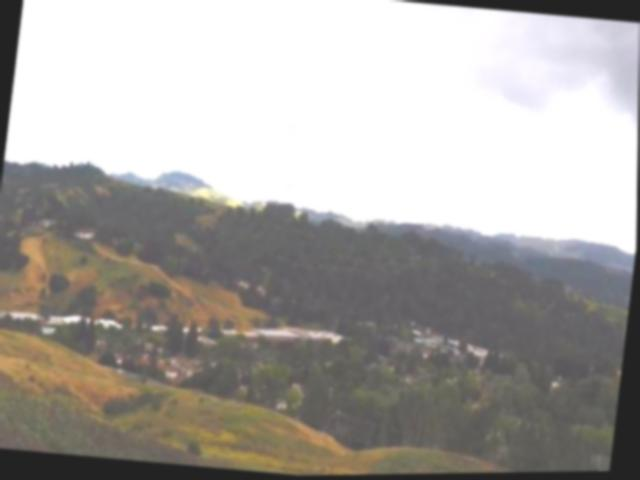iha: (271, 172, 295, 199)
